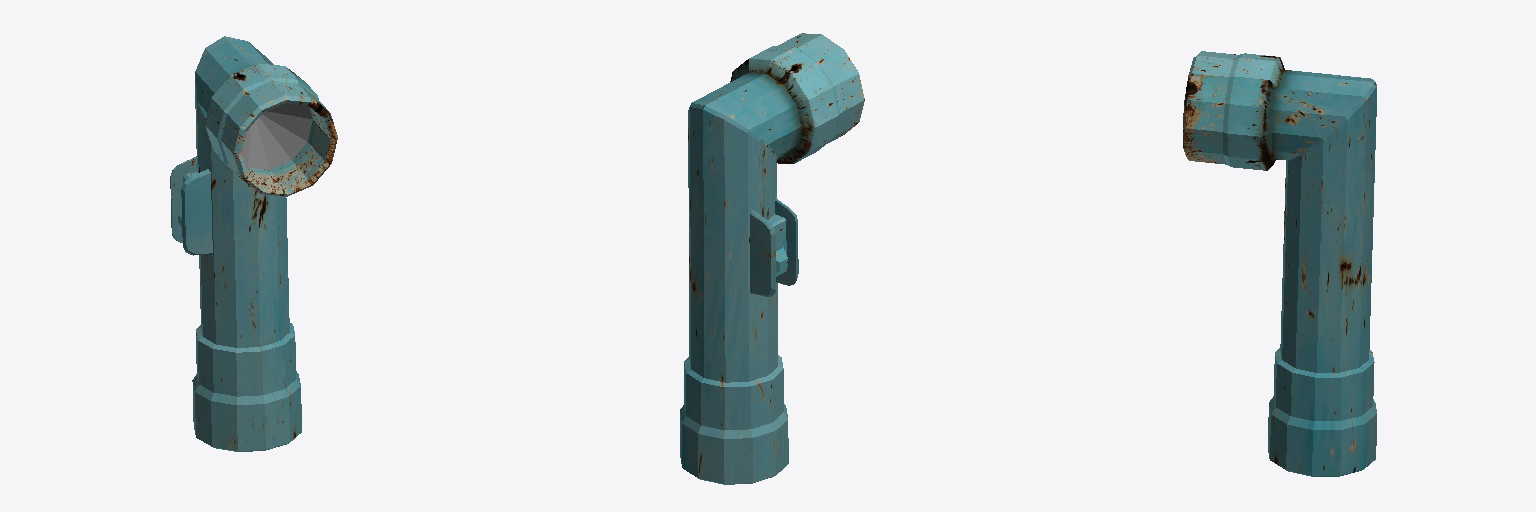
The picture shows the model from 3 angles: view 1: azimuth 30°, elevation 25°; view 2: azimuth 150°, elevation 25°; view 3: azimuth 270°, elevation 25°; orthographic projection.
Visible parts, largest first — view 1: linterna:_flashlight_mat; view 2: linterna:_flashlight_mat; view 3: linterna:_flashlight_mat.
Boxes of the visible parts, box(x1,y1,x2,y2) form: linterna:_flashlight_mat: box(170, 36, 337, 451); linterna:_flashlight_mat: box(680, 33, 864, 484); linterna:_flashlight_mat: box(1183, 51, 1376, 476).
Bounding box in the file's own units: 0.1847 × 0.5777 × 0.2614.
2 materials, 1 textured.